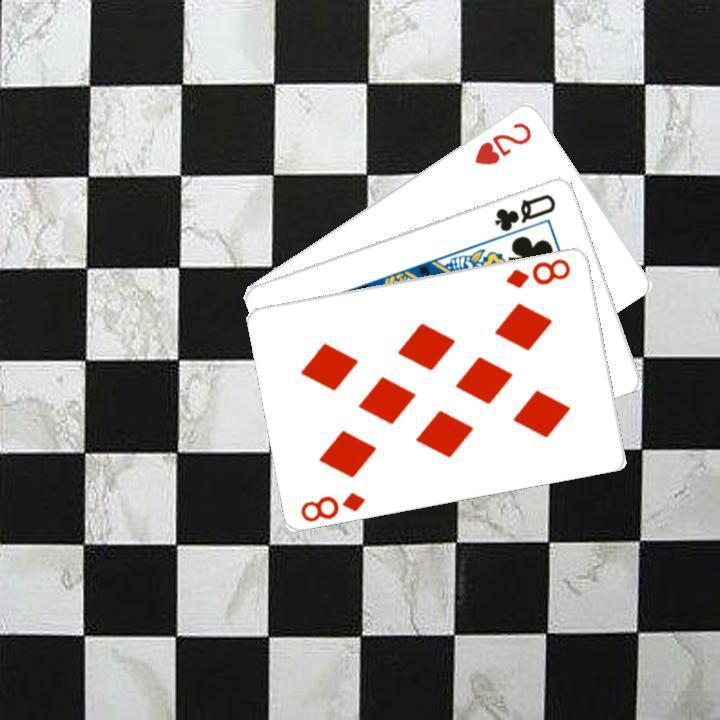2: (470, 117, 534, 167)
8: (501, 254, 573, 290), (296, 487, 368, 523)
Q: (490, 189, 558, 233)
